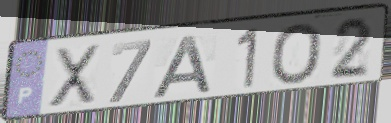1: (234, 26, 260, 91)
2: (328, 15, 375, 82)
7: (108, 39, 154, 105)
A: (149, 33, 216, 101)
O: (268, 21, 325, 86)
X: (46, 42, 102, 109)
